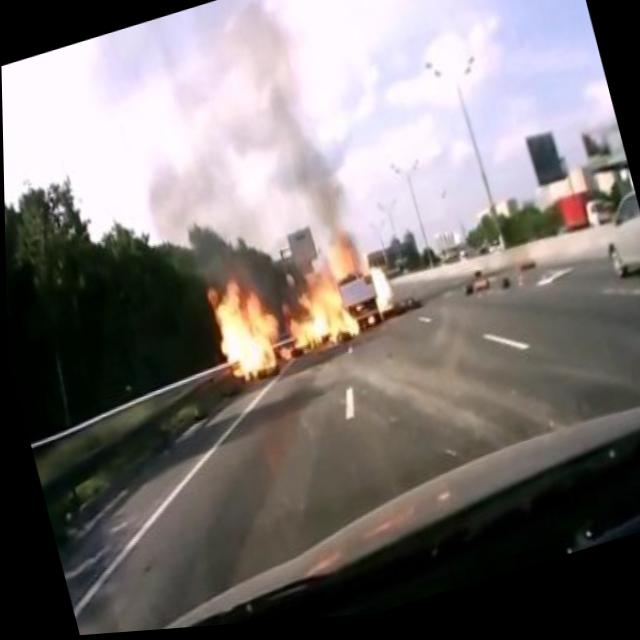fire: (195, 229, 381, 404), (361, 252, 400, 323)
